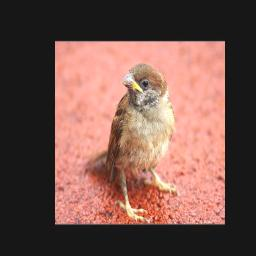Sparrow: (85, 62, 182, 222)
